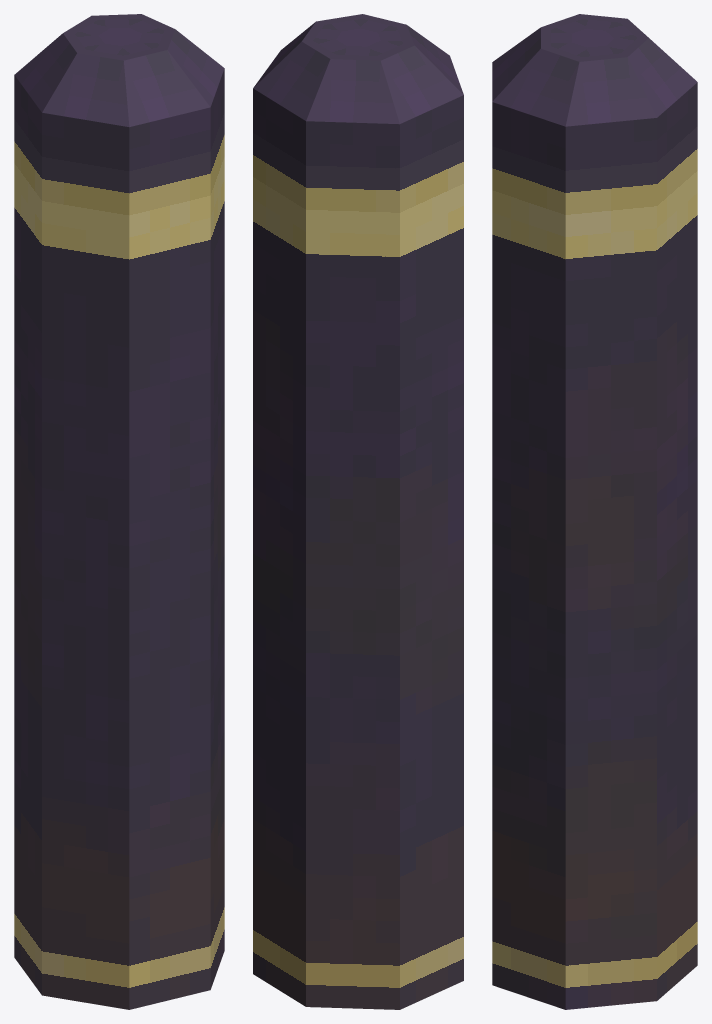
File: Bollard.fbx
The picture shows the model from 3 angles, left to right: view 1: azimuth 30°, elevation 25°; view 2: azimuth 150°, elevation 25°; view 3: azimuth 270°, elevation 25°; orthographic projection.
Parts seen in each view (by area): view 1: Bollard; view 2: Bollard; view 3: Bollard.
Boxes of the visible parts, bbox=[...] form: Bollard: bbox=[14, 14, 224, 1009]; Bollard: bbox=[253, 14, 463, 1009]; Bollard: bbox=[492, 14, 697, 1009].
Bounding box in the file's own units: 27.05 × 131 × 26.37.
Materials: 1 (1 with a texture image).
